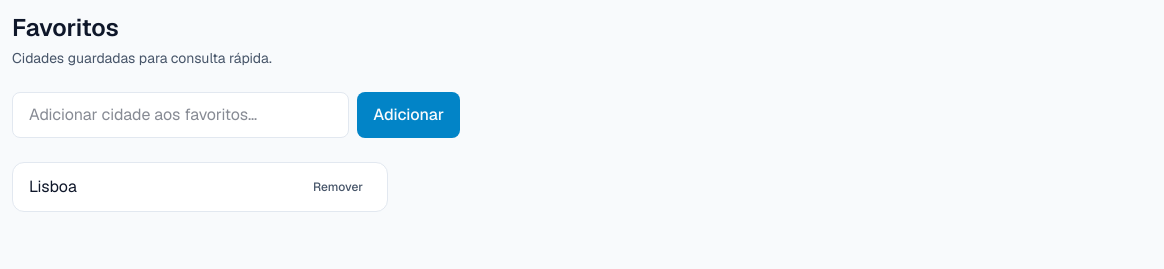
Test: FavoritesView › removes the card without an error banner when the backend already considers it gone
Click the button with aria-label "Remover Lisboa" at (338, 187), box [305,175,371,199]
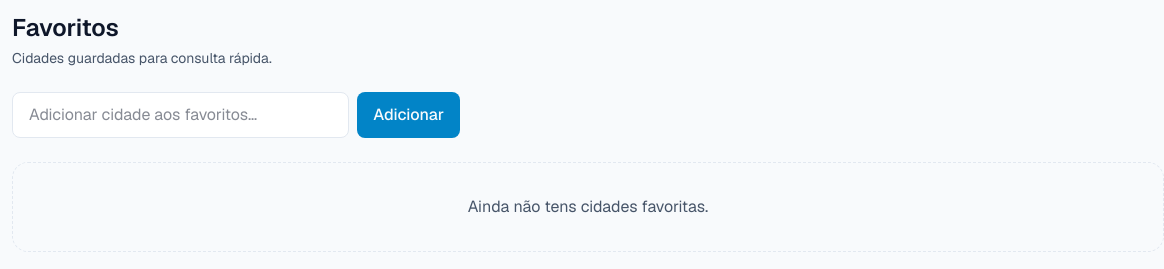
Expected: the link "Lisboa" is gone
